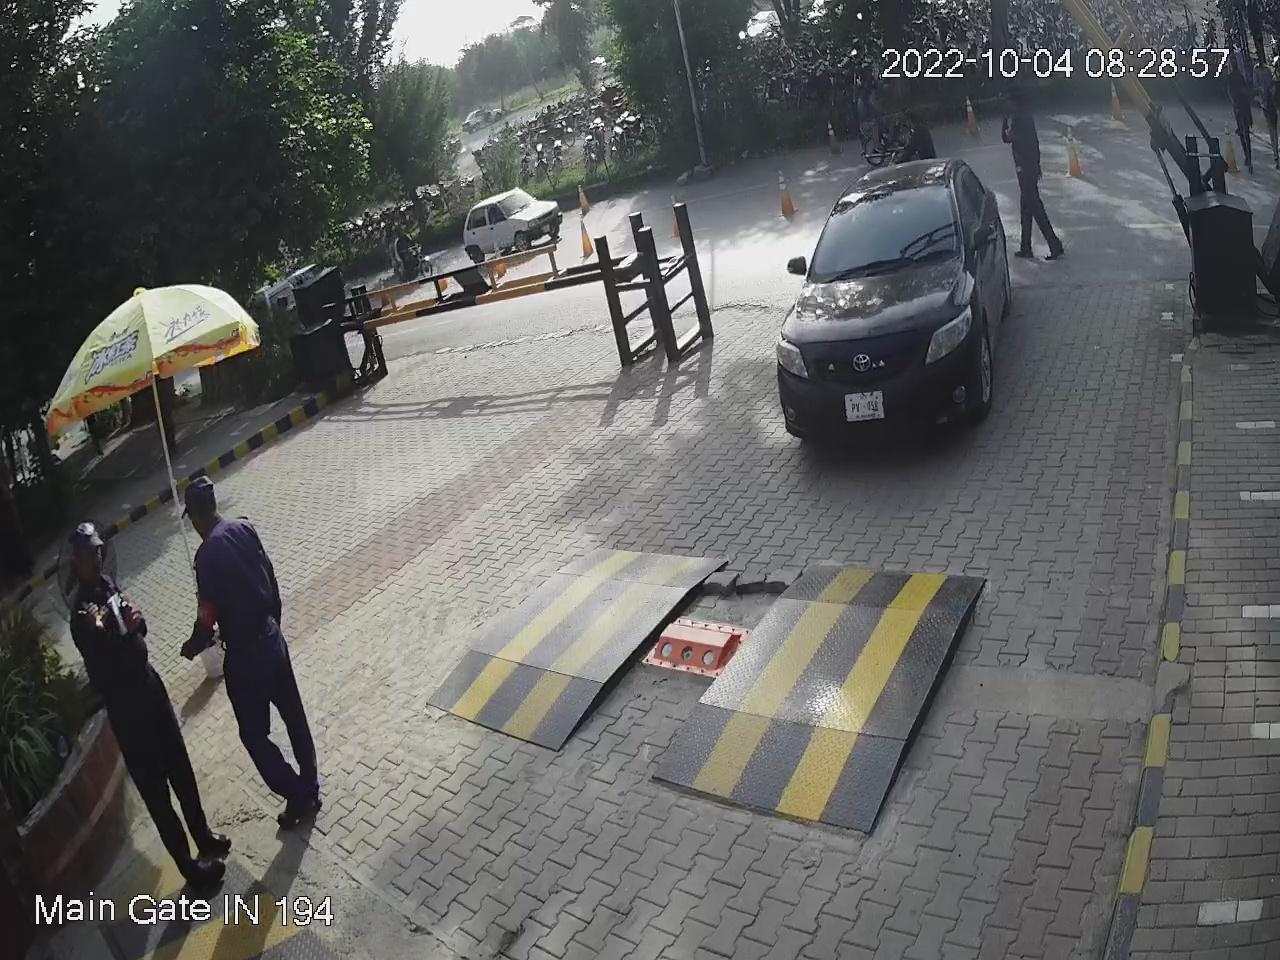windshield: (798, 170, 963, 285)
